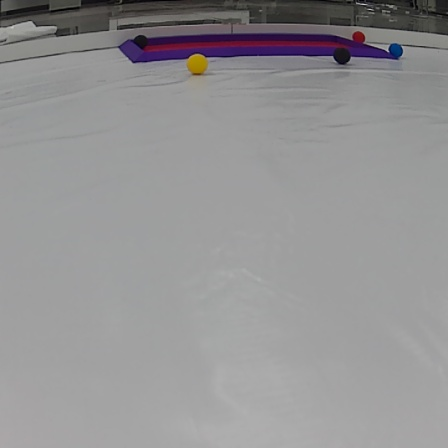black: (330, 46, 355, 63), (135, 33, 150, 51)
blue: (387, 40, 405, 60)
red: (351, 30, 369, 43)
red_aim: (114, 37, 397, 63)
yellow: (184, 53, 211, 74)
